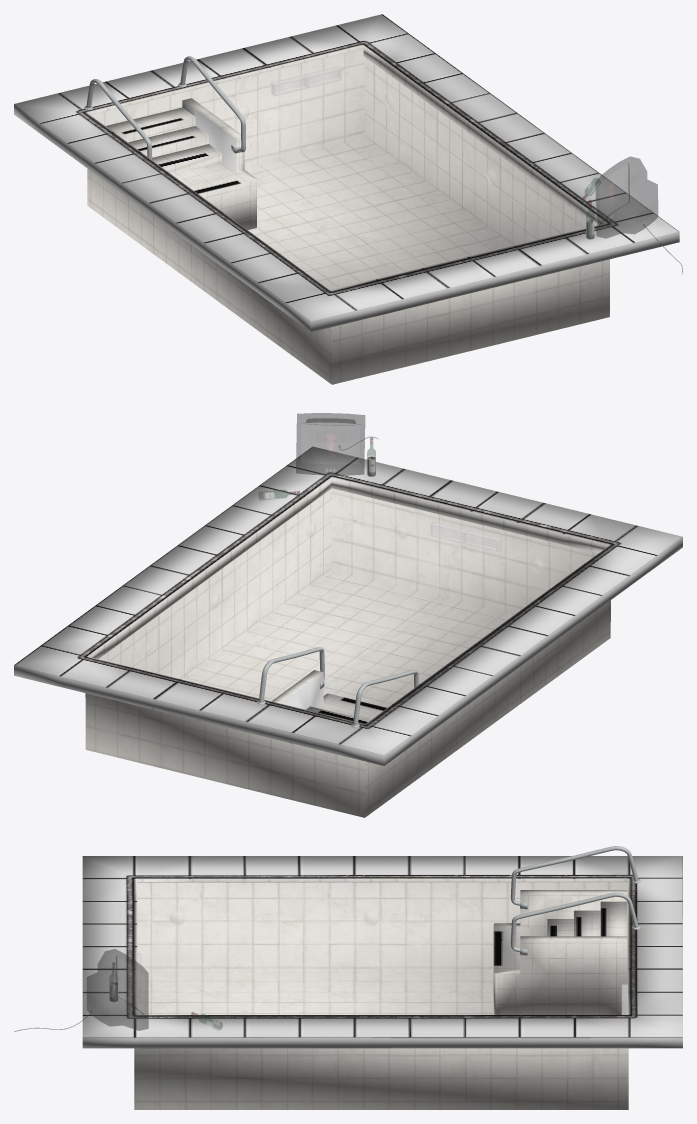
Rendered from pool-house.glb.
3 renders of one model, top to bottom at view 1: azimuth 30°, elevation 25°; view 2: azimuth 150°, elevation 25°; view 3: azimuth 270°, elevation 25°, orthographic.
Visible parts, largest first — view 1: Object_4, Object_3; view 2: Object_4, Object_3; view 3: Object_4, Object_3.
Part boxes in pixels (box(x1,y1,x2,y2)): Object_4: box(14, 14, 682, 384); Object_3: box(235, 66, 682, 273); Object_4: box(14, 438, 682, 817); Object_3: box(210, 413, 544, 608); Object_4: box(20, 846, 682, 1109); Object_3: box(14, 910, 627, 1031).
Bounding box in the file's own units: 338 × 131 × 526.
Materials: 2 (2 with a texture image).
